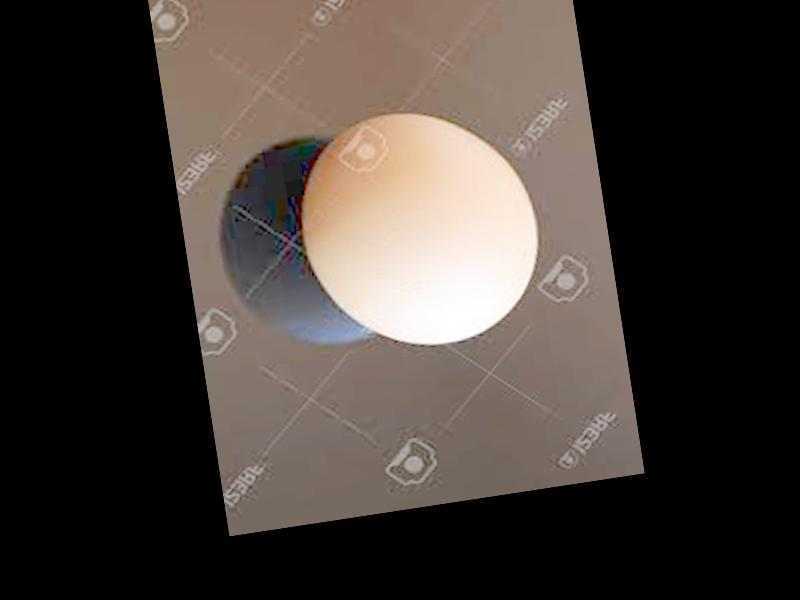Eggs: (286, 96, 552, 363)
